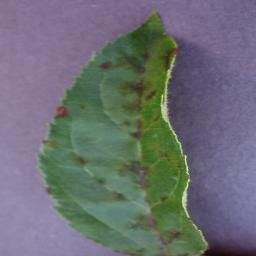apple healthy: (36, 9, 210, 255)
